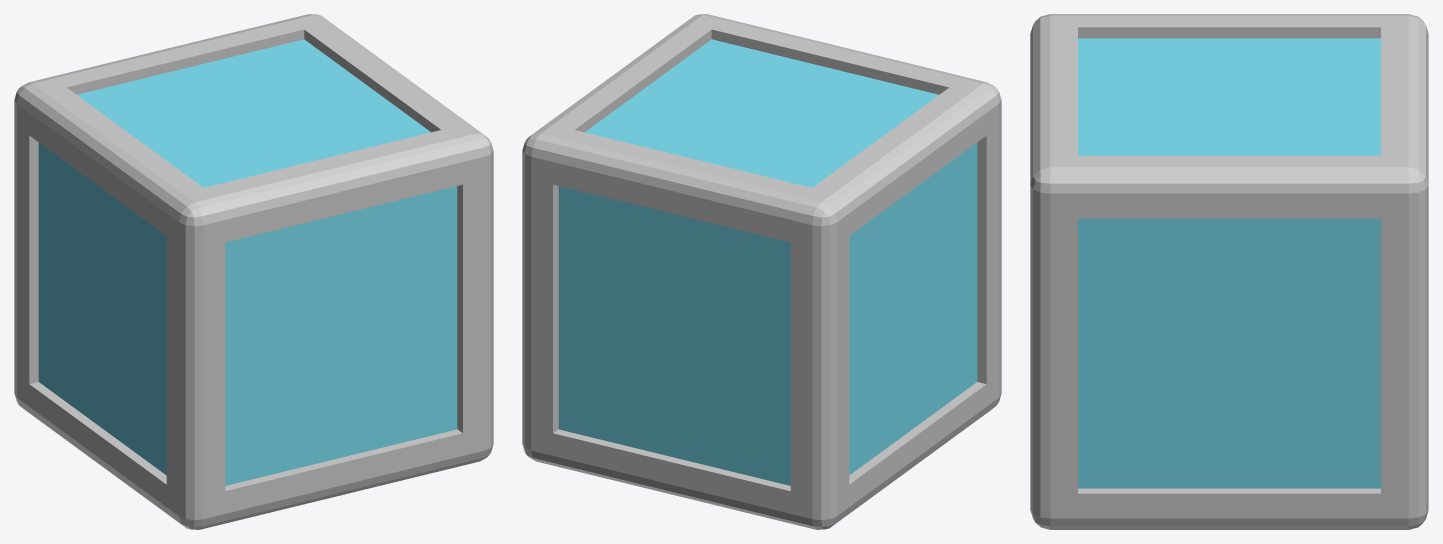
Rendered from PickupShotgun.fbx.
3 views of the same model, side by side, from view 1: azimuth 30°, elevation 25°; view 2: azimuth 150°, elevation 25°; view 3: azimuth 270°, elevation 25° (orthographic). The views are drawn at different scales.
Parts seen in each view (by area): view 1: Cube; view 2: Cube; view 3: Cube.
Boxes of the visible parts, bbox=[...] form: Cube: bbox=[14, 14, 493, 529]; Cube: bbox=[522, 14, 1001, 529]; Cube: bbox=[1030, 14, 1428, 529].
Size of the model in its own units: 1.5 by 1.5 by 1.5.
